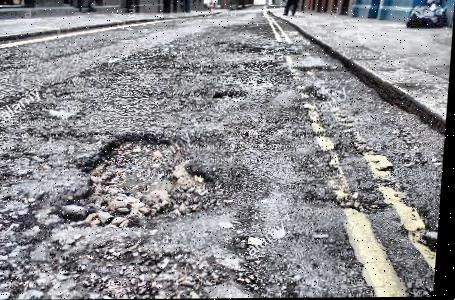pothole: (51, 128, 244, 230), (213, 91, 246, 101)
